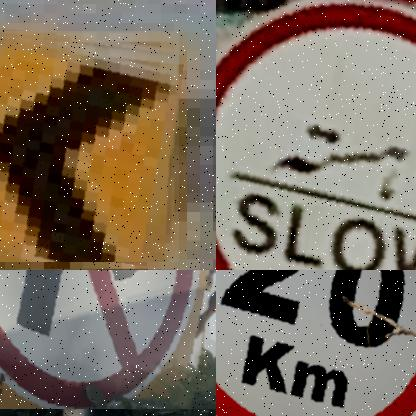Left bend: (0, 31, 179, 261)
No Parking: (0, 270, 216, 409)
Slow: (216, 0, 416, 270)
Speed Limit -20 kmph-: (216, 270, 416, 416)
